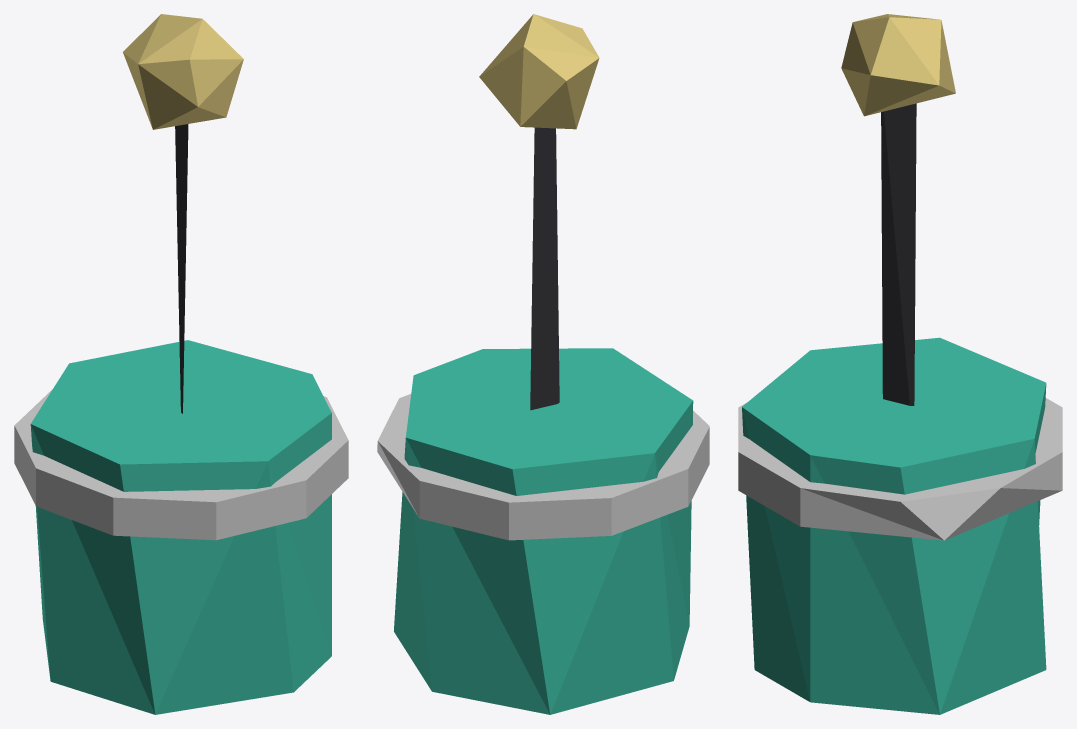
The model's file is buoy_dive_lod1.glb.
3 views of the same model, side by side, from view 1: azimuth 30°, elevation 25°; view 2: azimuth 150°, elevation 25°; view 3: azimuth 270°, elevation 25° (orthographic). The views are drawn at different scales.
Visible parts, largest first — view 1: geometry_0; view 2: geometry_0; view 3: geometry_0.
Part boxes in pixels (x1=…): geometry_0: x1=14, y1=14, x2=348, y2=714; geometry_0: x1=377, y1=14, x2=709, y2=714; geometry_0: x1=738, y1=14, x2=1062, y2=714.
Bounding box in the file's own units: 2 × 4.15 × 1.9.
